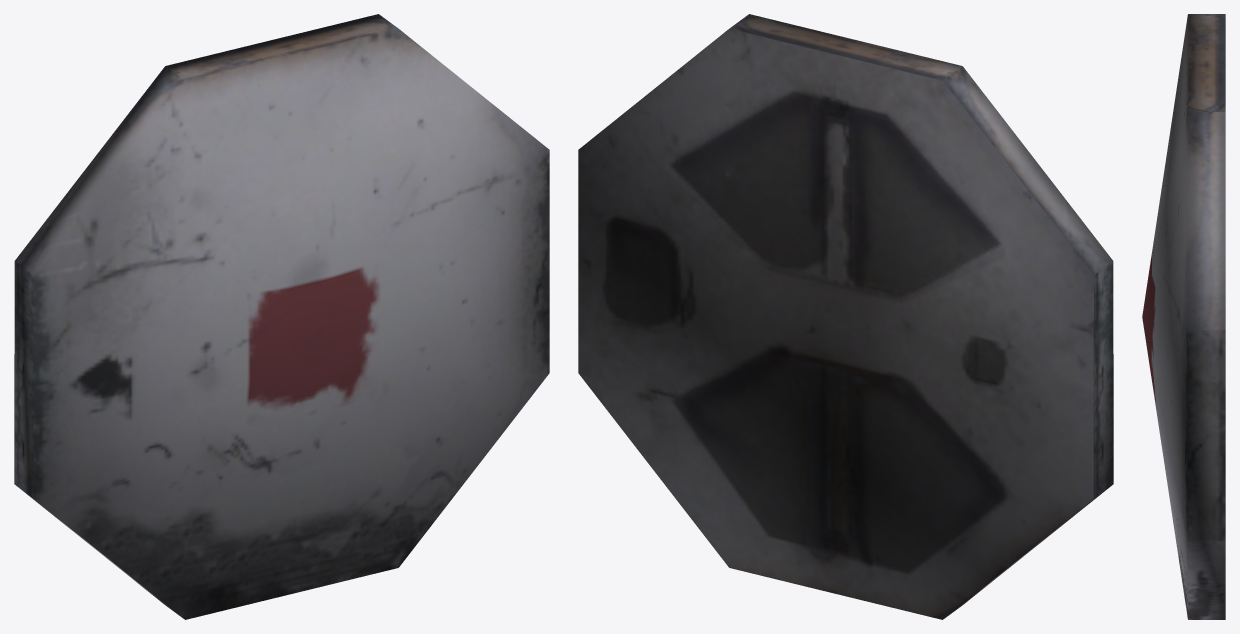
File: pipe_regulator_door01.DAE
3 views of the same model, side by side, from view 1: azimuth 30°, elevation 25°; view 2: azimuth 150°, elevation 25°; view 3: azimuth 270°, elevation 25° (orthographic). The views are drawn at different scales.
Parts seen in each view (by area): view 1: pipe_regulator_door01; view 2: pipe_regulator_door01; view 3: pipe_regulator_door01.
Part boxes in pixels (x1=…): pipe_regulator_door01: x1=14, y1=14, x2=549, y2=619; pipe_regulator_door01: x1=578, y1=14, x2=1113, y2=619; pipe_regulator_door01: x1=1142, y1=14, x2=1225, y2=619.
Bounding box in the file's own units: 0.582 × 0.582 × 0.0867.
